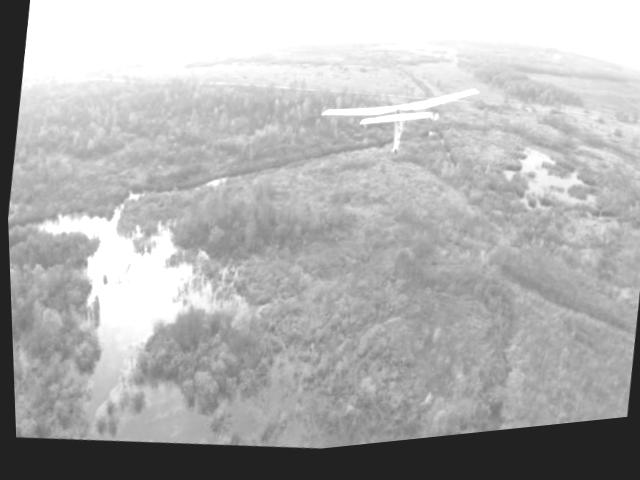hedef: (313, 72, 483, 183)
